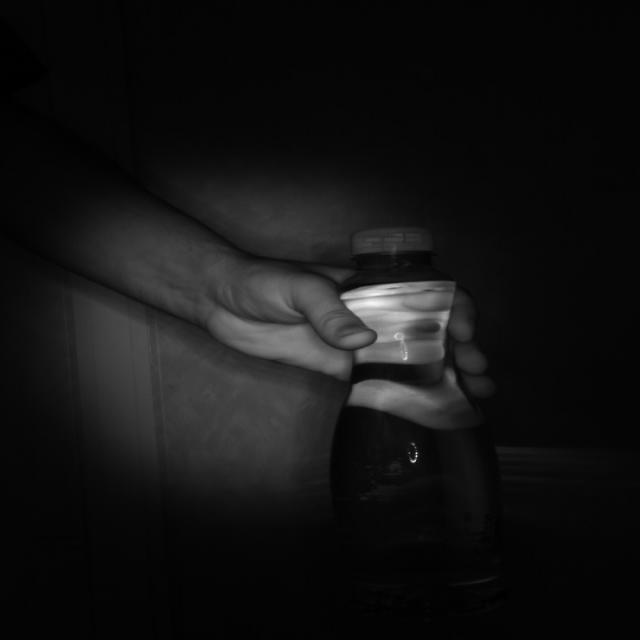Good: (348, 226, 432, 256)
